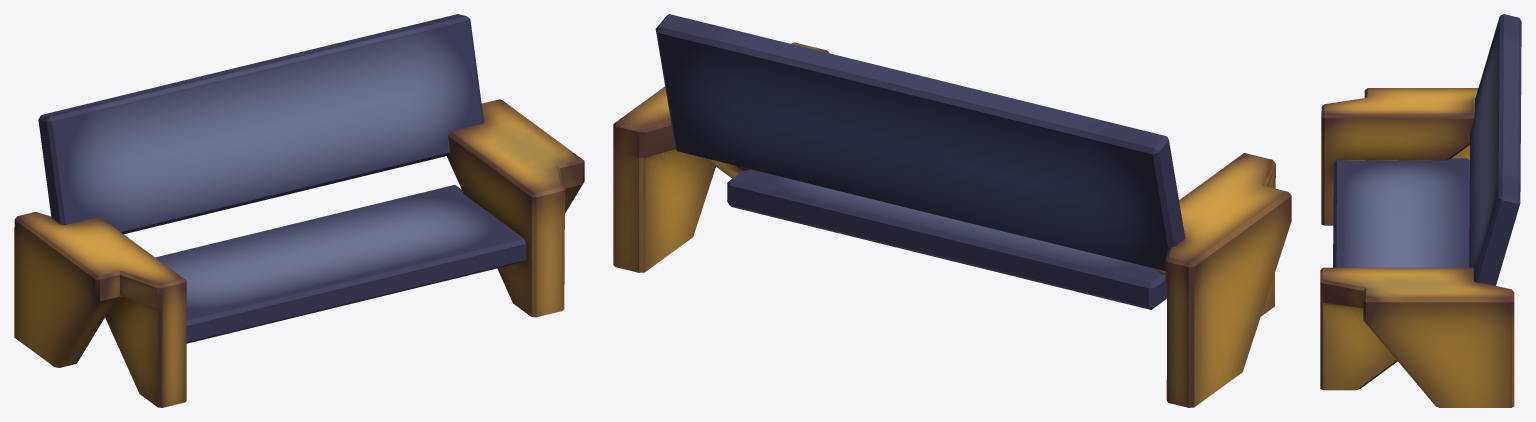
Rendered from Sofa.glb.
The picture shows the model from 3 angles, left to right: view 1: azimuth 30°, elevation 25°; view 2: azimuth 150°, elevation 25°; view 3: azimuth 270°, elevation 25°; orthographic projection. The views are drawn at different scales.
Visible parts, largest first — view 1: Sofa; view 2: Sofa; view 3: Sofa.
Part boxes in pixels (box(x1,y1,x2,y2)): Sofa: box(14, 14, 584, 407); Sofa: box(613, 14, 1291, 407); Sofa: box(1320, 14, 1521, 407).
Bounding box in the file's own units: 3.41 × 1.46 × 1.36.
1 material, 1 textured.
